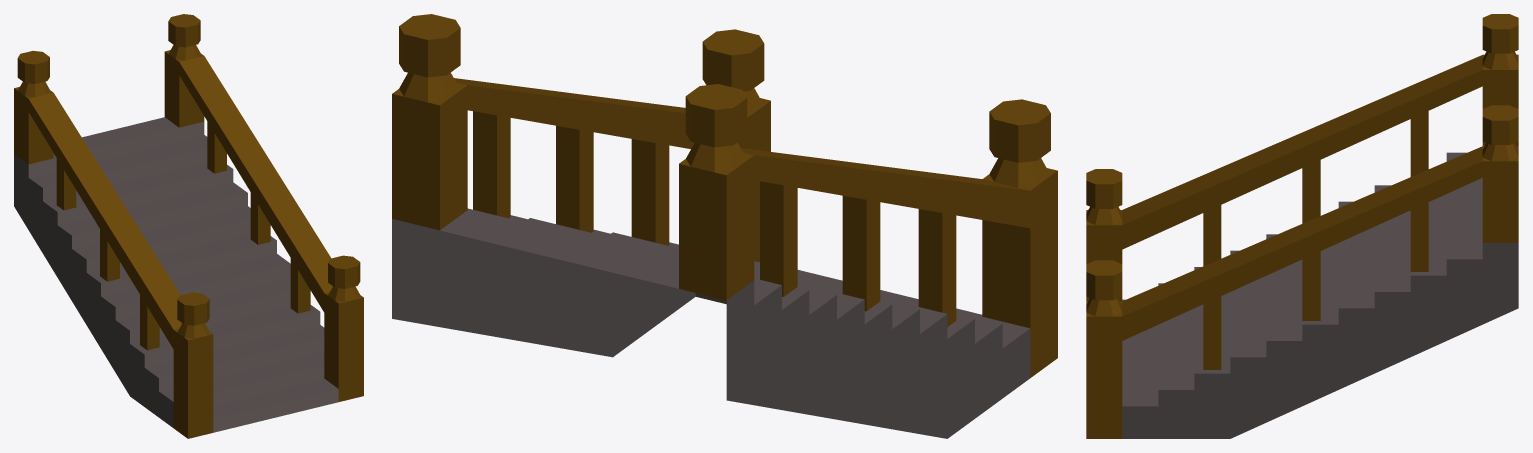
Rendered from model_loc_98_8.obj.
3 renders of one model, left to right at view 1: azimuth 30°, elevation 25°; view 2: azimuth 150°, elevation 25°; view 3: azimuth 270°, elevation 25°, orthographic. The views are drawn at different scales.
Parts seen in each view (by area): view 1: 1211; view 2: 1211; view 3: 1211.
Boxes of the visible parts, box(x1,y1,x2,y2) form: 1211: box(14, 14, 363, 438); 1211: box(392, 14, 1057, 438); 1211: box(1086, 14, 1518, 438).
Bounding box in the file's own units: 224 × 312 × 384.
